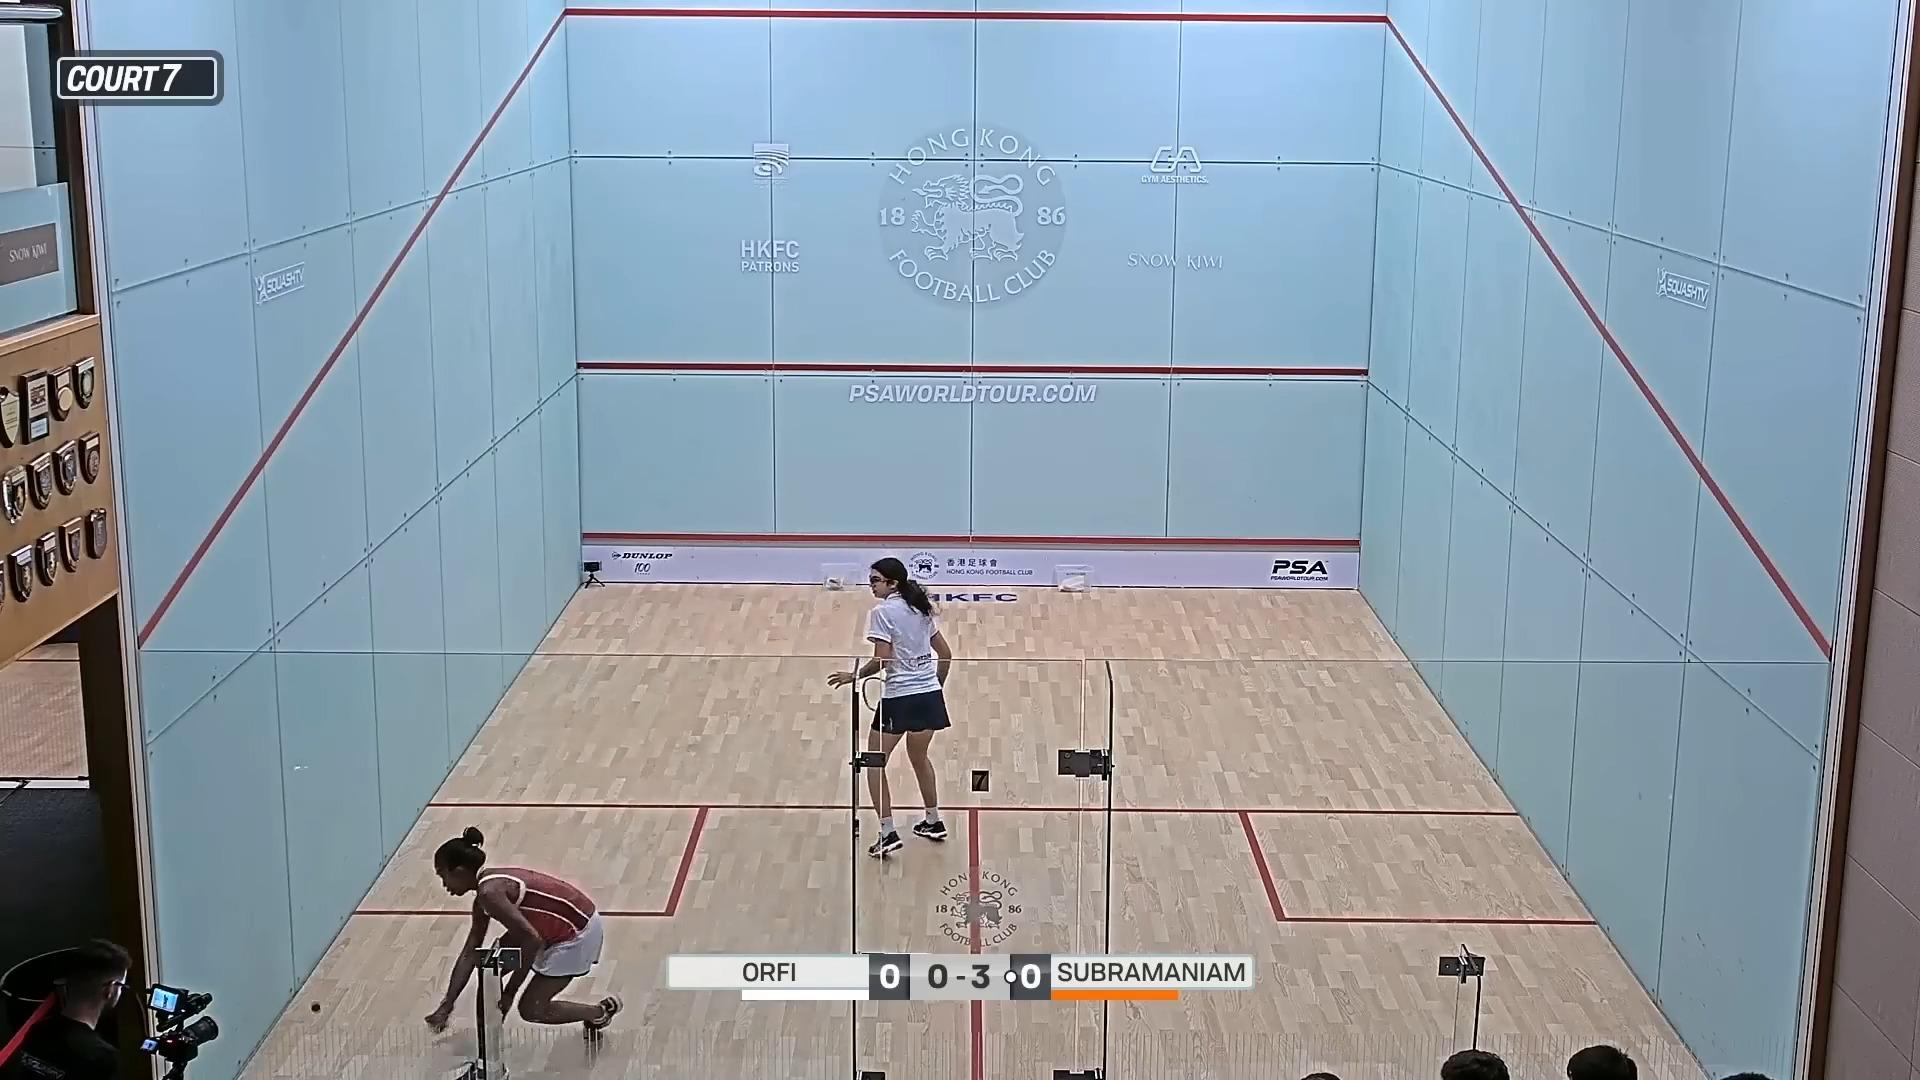Squash-Ball: (303, 992, 326, 1030)
